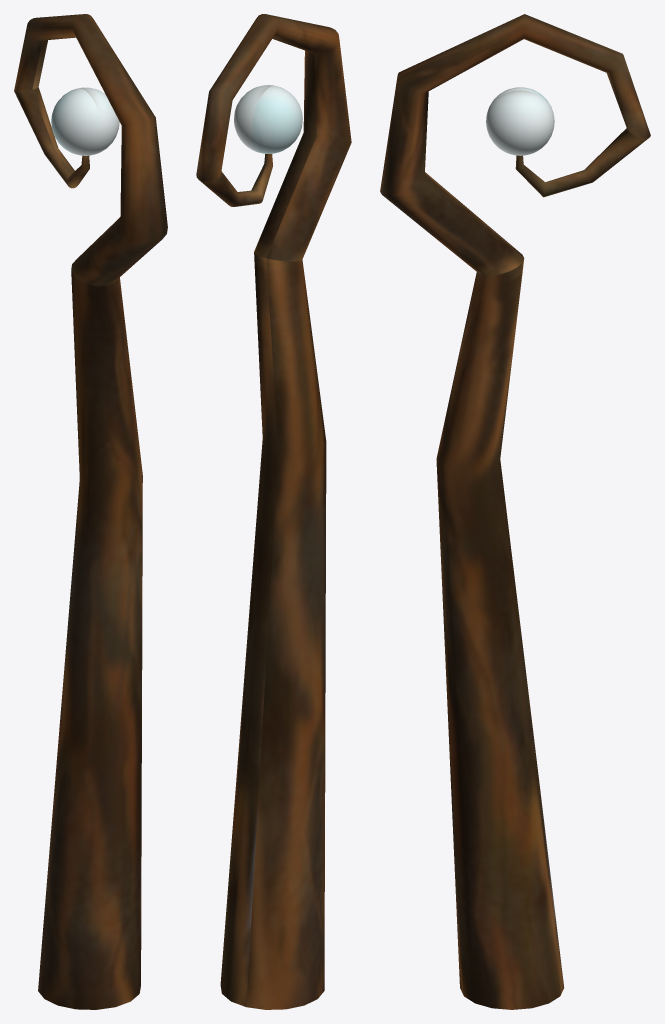
File: PosteLuzKambin.fbx
3 views of the same model, side by side, from view 1: azimuth 30°, elevation 25°; view 2: azimuth 150°, elevation 25°; view 3: azimuth 270°, elevation 25° (orthographic).
Parts seen in each view (by area): view 1: LOD_0; view 2: LOD_0; view 3: LOD_0.
Boxes of the visible parts, x1,y1,x2,y2 form: LOD_0: (14, 14, 167, 1009); LOD_0: (196, 14, 351, 1009); LOD_0: (380, 14, 650, 1009).
Size of what is drawn, in the model's own units: 27.4 by 282 by 71.18.
